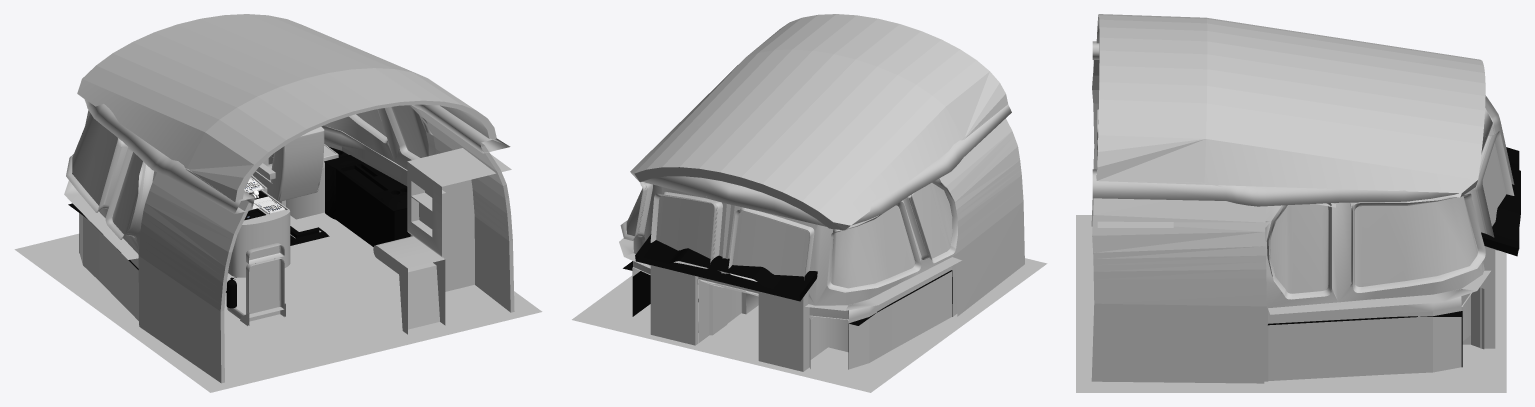
File: cockpit.fbx
3 views of the same model, side by side, from view 1: azimuth 30°, elevation 25°; view 2: azimuth 150°, elevation 25°; view 3: azimuth 270°, elevation 25° (orthographic). The views are drawn at different scales.
Visible parts, largest first — view 1: CockpitShell, RoofUnwrap, Chair/door1, Windows, ControlPanels; view 2: RoofUnwrap, CockpitShell, Chair/door1, Windows; view 3: RoofUnwrap, CockpitShell, Windows, Chair/door1.
Part boxes in pixels (x1=…): CockpitShell: x1=64, y1=105, x2=514, y2=383; RoofUnwrap: x1=77, y1=14, x2=510, y2=213; Chair/door1: x1=14, y1=126, x2=542, y2=392; Windows: x1=72, y1=105, x2=428, y2=234; ControlPanels: x1=244, y1=177, x2=284, y2=220; RoofUnwrap: x1=630, y1=14, x2=1011, y2=230; CockpitShell: x1=619, y1=118, x2=1024, y2=369; Chair/door1: x1=572, y1=258, x2=1047, y2=392; Windows: x1=626, y1=183, x2=952, y2=288; RoofUnwrap: x1=1092, y1=14, x2=1492, y2=207; CockpitShell: x1=1091, y1=60, x2=1520, y2=383; Windows: x1=1270, y1=135, x2=1506, y2=293; Chair/door1: x1=1076, y1=109, x2=1506, y2=392.
Size of the model in its own units: 421 by 291 by 445.
